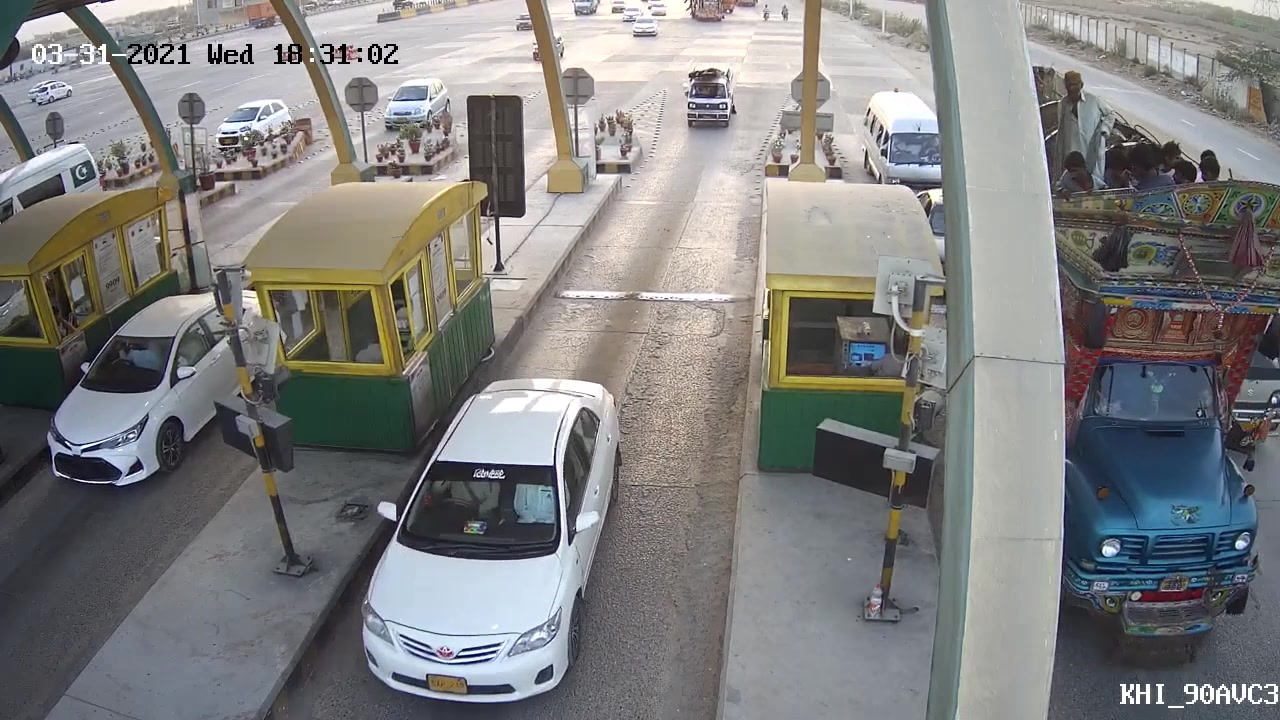F1: (354, 374, 627, 709)
